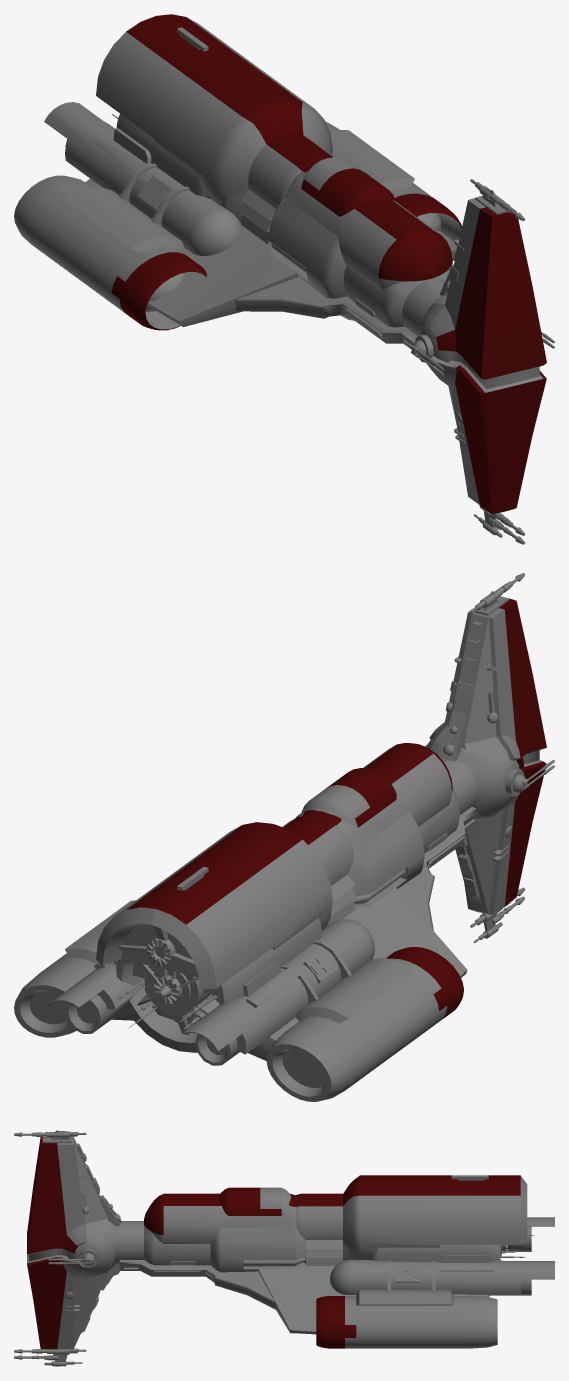
The model's file is HammerHeadCruiser.fbx.
The picture shows the model from 3 angles, top to bottom: view 1: azimuth 30°, elevation 25°; view 2: azimuth 150°, elevation 25°; view 3: azimuth 270°, elevation 25°; orthographic projection. The views are drawn at different scales.
Visible parts, largest first — view 1: Main, EngineRight, ThrusterRight, Details, EngineLeft, TurboLaserCannonLeft; view 2: Main, EngineRight, Details, ThrusterRight, EngineLeft, ThrusterLeft, TurboLaserCannonLeft; view 3: Main, EngineLeft, Details, ThrusterLeft, TurboLaserCannonLeft, ThrusterRight, TurboLaserCannonTop, MediumLaserCannon.
Boxes of the visible parts, x1,y1,x2,y2 form: Main: (85,14,546,513); EngineRight: (14,175,207,330); ThrusterRight: (44,102,242,256); Details: (94,27,465,443); EngineLeft: (326,122,461,241); TurboLaserCannonLeft: (473,505,525,544); Main: (96,598,546,1060); EngineRight: (266,947,463,1101); Details: (94,621,512,1034); ThrusterRight: (183,919,374,1065); EngineLeft: (14,900,135,1037); ThrusterLeft: (44,962,145,1033); TurboLaserCannonLeft: (470,887,525,942); Main: (27,1136,527,1349); EngineLeft: (316,1290,497,1348); Details: (65,1143,534,1333); ThrusterLeft: (329,1259,554,1295); TurboLaserCannonLeft: (14,1348,86,1366); ThrusterRight: (505,1217,554,1251); TurboLaserCannonTop: (14,1130,86,1139); MediumLaserCannon: (48,1253,94,1265).
Size of the model in its own units: 16995 by 17001 by 35289.
